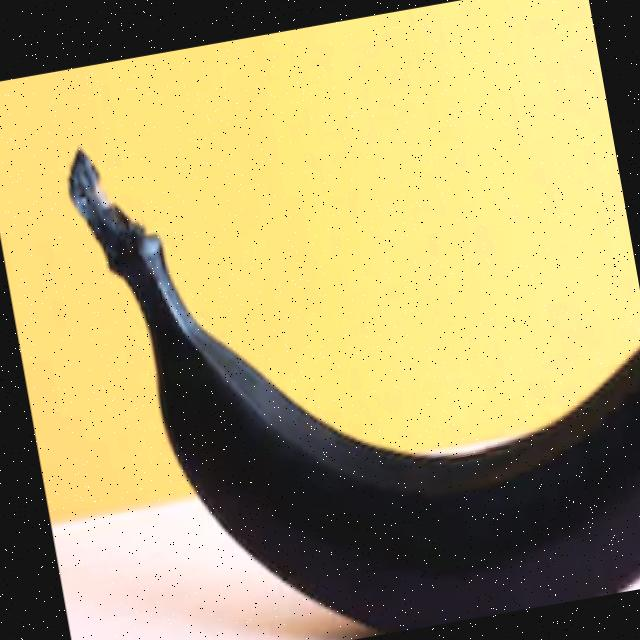Rotten: (51, 51, 640, 640)
